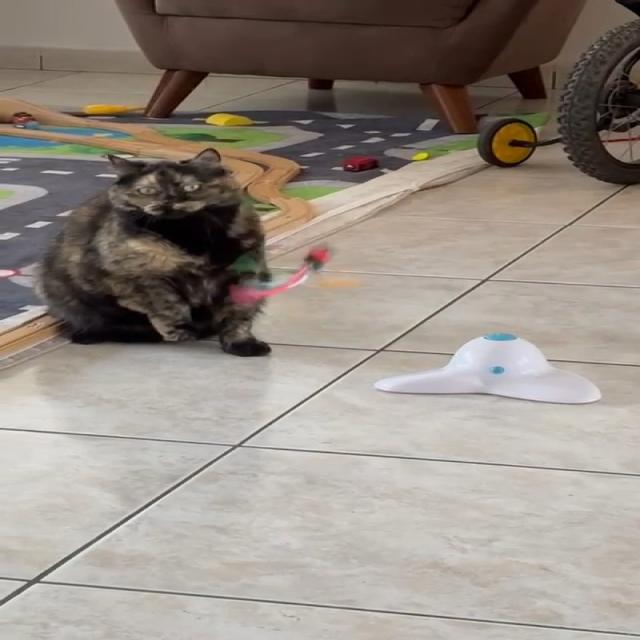authorized: (32, 147, 273, 357)
